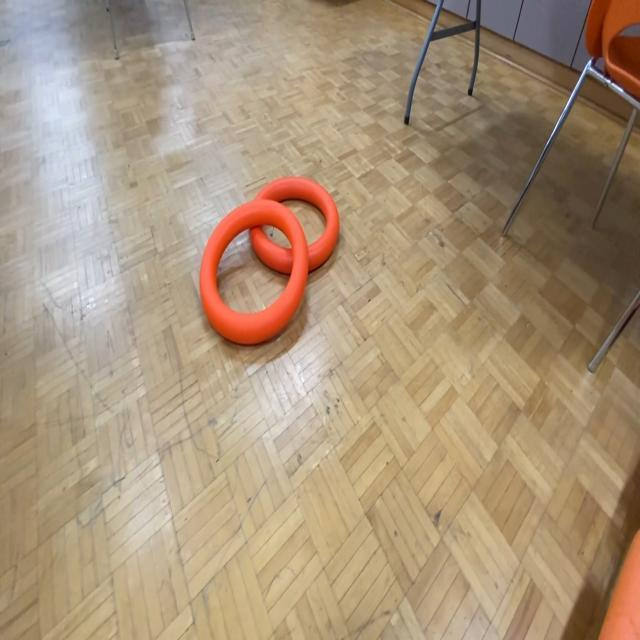note: (198, 197, 310, 345), (248, 174, 340, 276)
